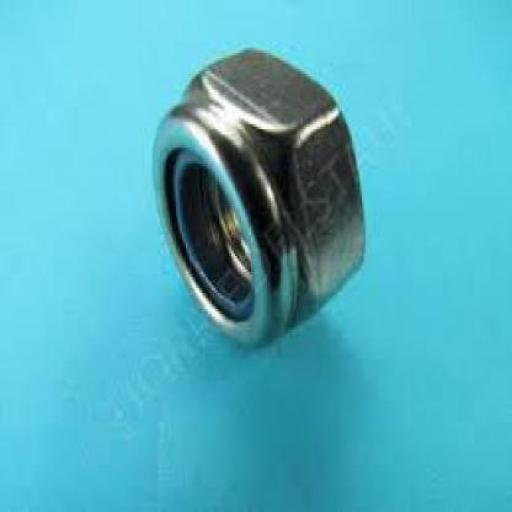Nut: (151, 47, 369, 351)
